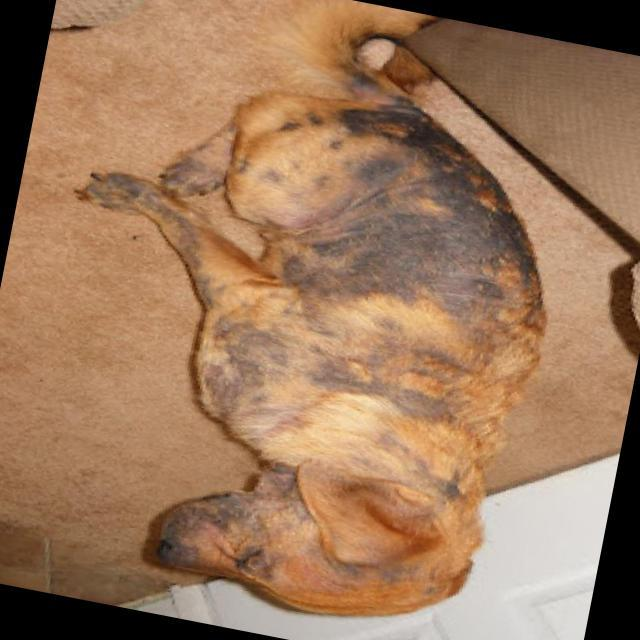allergic dermatitis: (288, 178, 534, 338), (339, 104, 483, 207)
